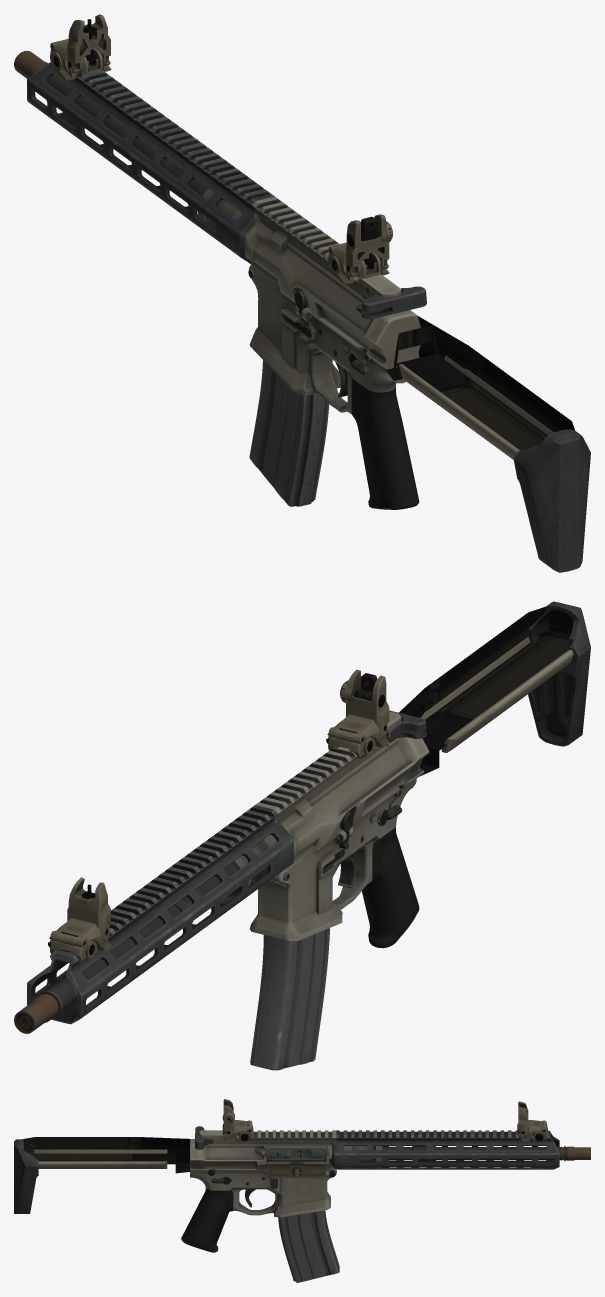
File: gun_badger.glb
3 renders of one model, top to bottom at view 1: azimuth 30°, elevation 25°; view 2: azimuth 150°, elevation 25°; view 3: azimuth 270°, elevation 25°, orthographic. The views are drawn at different scales.
Parts seen in each view (by area): view 1: Object_4, Object_7, Object_5; view 2: Object_4, Object_7, Object_5; view 3: Object_4, Object_7, Object_5.
Part boxes in pixels (left/top/right/bottom): Object_4: left=14, top=50, right=590, bottom=572; Object_7: left=385, top=315, right=574, bottom=450; Object_5: left=50, top=14, right=392, bottom=283; Object_4: left=14, top=601, right=590, bottom=1070; Object_7: left=399, top=606, right=573, bottom=776; Object_5: left=48, top=669, right=389, bottom=962; Object_4: left=14, top=1126, right=590, bottom=1282; Object_7: left=22, top=1137, right=190, bottom=1173; Object_5: left=222, top=1099, right=547, bottom=1141.
Size of the model in its own units: 0.2376 by 1.18 by 3.46.
Materials: 4 (4 with a texture image).
